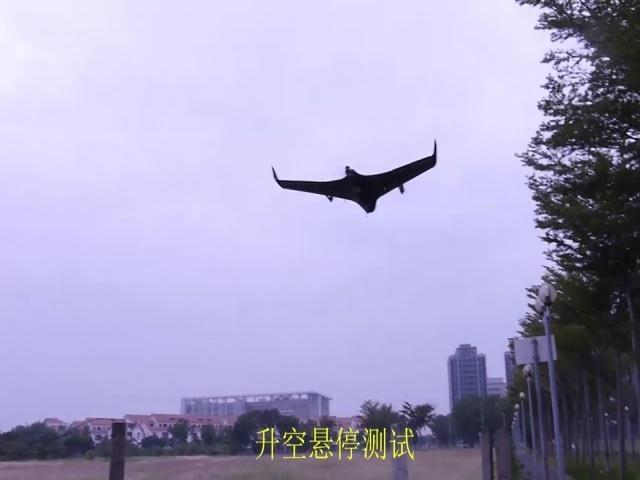Airplane: (271, 139, 437, 213)
